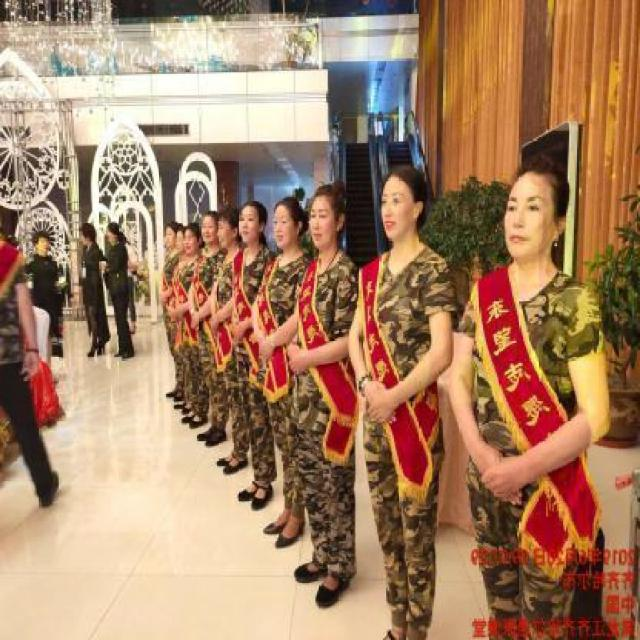face_nomask: (499, 190, 563, 256), (376, 186, 416, 234), (309, 206, 340, 249), (268, 211, 300, 252), (240, 212, 260, 245), (198, 218, 216, 244), (214, 225, 234, 248)
hand_noglove: (482, 457, 523, 503), (368, 386, 395, 425), (286, 349, 309, 377), (20, 349, 38, 382), (258, 337, 272, 361), (189, 312, 202, 332), (231, 325, 243, 343), (210, 316, 222, 332), (171, 306, 183, 320), (157, 292, 166, 308), (69, 295, 77, 308), (78, 284, 85, 296), (126, 262, 134, 270), (99, 262, 106, 270)
head_nohelmet: (505, 158, 569, 191), (383, 164, 425, 190), (312, 183, 348, 205), (276, 192, 304, 215), (243, 198, 265, 216), (217, 205, 237, 220), (201, 212, 217, 220)
person: (458, 160, 617, 640), (366, 155, 454, 640), (298, 168, 360, 624), (258, 160, 329, 555), (223, 197, 269, 505)
